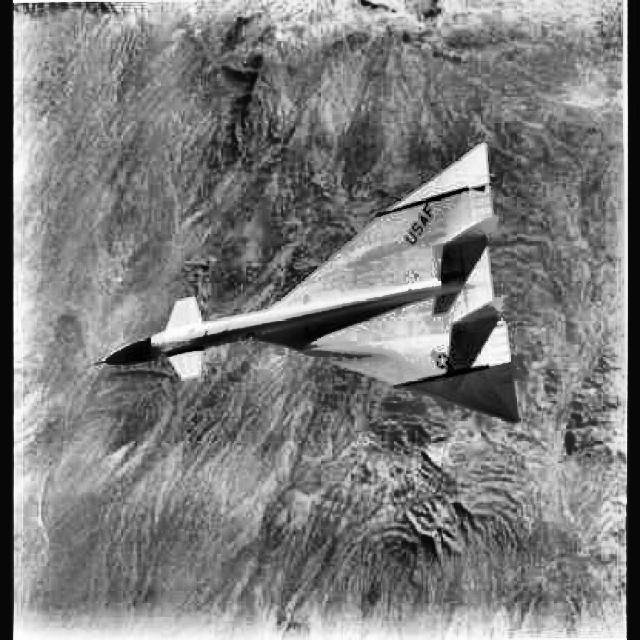XB70: (94, 141, 520, 424)
